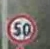limite 50: (5, 11, 38, 44)
